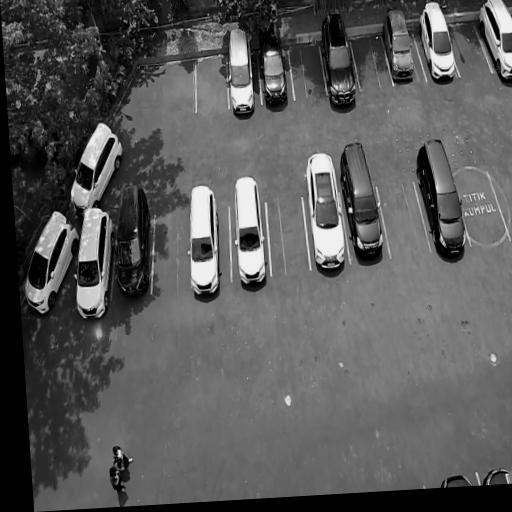Car: (407, 130, 475, 271), (19, 203, 81, 328), (62, 108, 128, 219), (299, 145, 351, 276), (337, 136, 387, 266), (109, 177, 151, 302), (228, 169, 269, 295), (183, 179, 225, 302), (72, 205, 115, 323), (316, 5, 359, 111), (411, 0, 461, 87), (223, 24, 259, 121), (473, 0, 512, 89), (379, 4, 420, 85), (257, 18, 290, 110), (478, 459, 512, 485), (436, 469, 474, 488)
Space Available: (377, 182, 431, 256), (457, 173, 510, 245), (266, 195, 311, 274), (152, 208, 190, 292), (349, 28, 394, 88), (446, 17, 491, 74), (288, 41, 328, 101), (196, 54, 229, 111), (489, 169, 512, 238)
